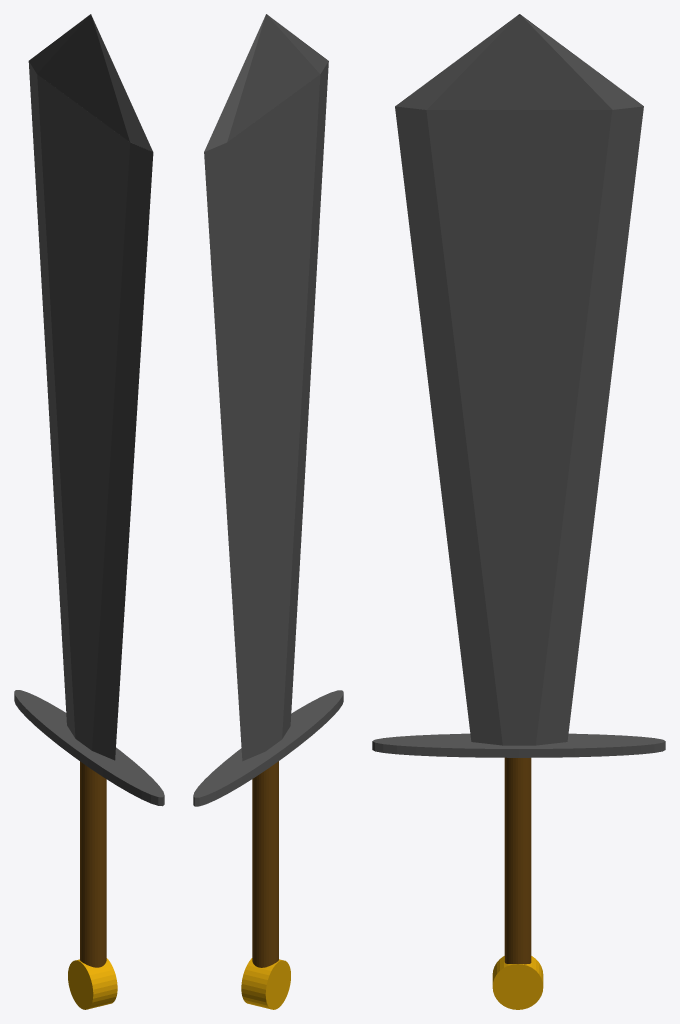
The model's file is sord.glb.
3 views of the same model, side by side, from view 1: azimuth 30°, elevation 25°; view 2: azimuth 150°, elevation 25°; view 3: azimuth 270°, elevation 25° (orthographic).
Visible parts, largest first — view 1: Cube, Cube.001, Cylinder, Cylinder.001; view 2: Cube, Cube.001, Cylinder, Cylinder.001; view 3: Cube, Cube.001, Cylinder, Cylinder.001.
Part boxes in pixels (x1=…): Cube: x1=28, y1=61, x2=153, y2=760; Cube.001: x1=14, y1=14, x2=164, y2=806; Cylinder: x1=80, y1=761, x2=106, y2=967; Cylinder.001: x1=68, y1=958, x2=117, y2=1009; Cube: x1=204, y1=61, x2=328, y2=761; Cube.001: x1=193, y1=14, x2=343, y2=806; Cylinder: x1=252, y1=761, x2=278, y2=967; Cylinder.001: x1=241, y1=958, x2=290, y2=1009; Cube: x1=395, y1=106, x2=643, y2=745; Cube.001: x1=372, y1=14, x2=665, y2=757; Cylinder: x1=504, y1=757, x2=531, y2=964; Cylinder.001: x1=492, y1=956, x2=543, y2=1009.
Size of the model in its own units: 0.1443 by 4.19 by 1.13.
